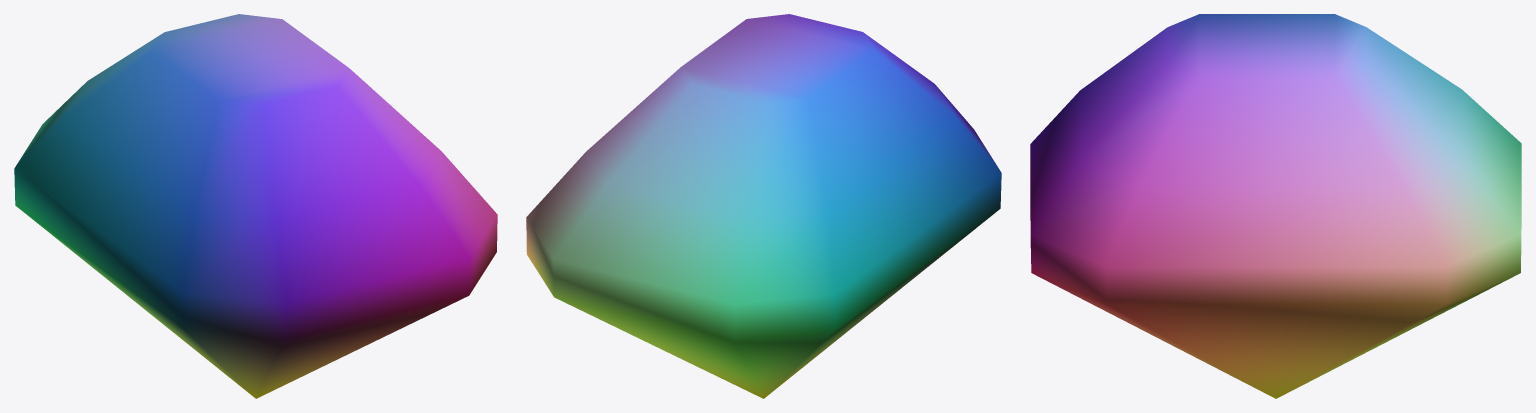
File: SM_Pickup_Gem_Emerald_3.fbx
The picture shows the model from 3 angles, left to right: view 1: azimuth 30°, elevation 25°; view 2: azimuth 150°, elevation 25°; view 3: azimuth 270°, elevation 25°; orthographic projection. The views are drawn at different scales.
Parts seen in each view (by area): view 1: SM_Pickup_Gem_Emerald_3; view 2: SM_Pickup_Gem_Emerald_3; view 3: SM_Pickup_Gem_Emerald_3.
Part boxes in pixels (bbox=[...]): SM_Pickup_Gem_Emerald_3: bbox=[14, 14, 497, 398]; SM_Pickup_Gem_Emerald_3: bbox=[526, 14, 1001, 398]; SM_Pickup_Gem_Emerald_3: bbox=[1030, 14, 1521, 398].
Size of the model in its own units: 0.1754 by 0.1839 by 0.2347.
